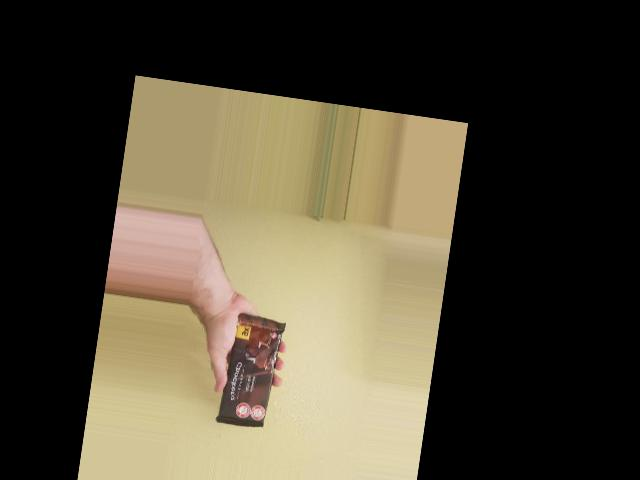chocolate: (213, 311, 286, 429)
